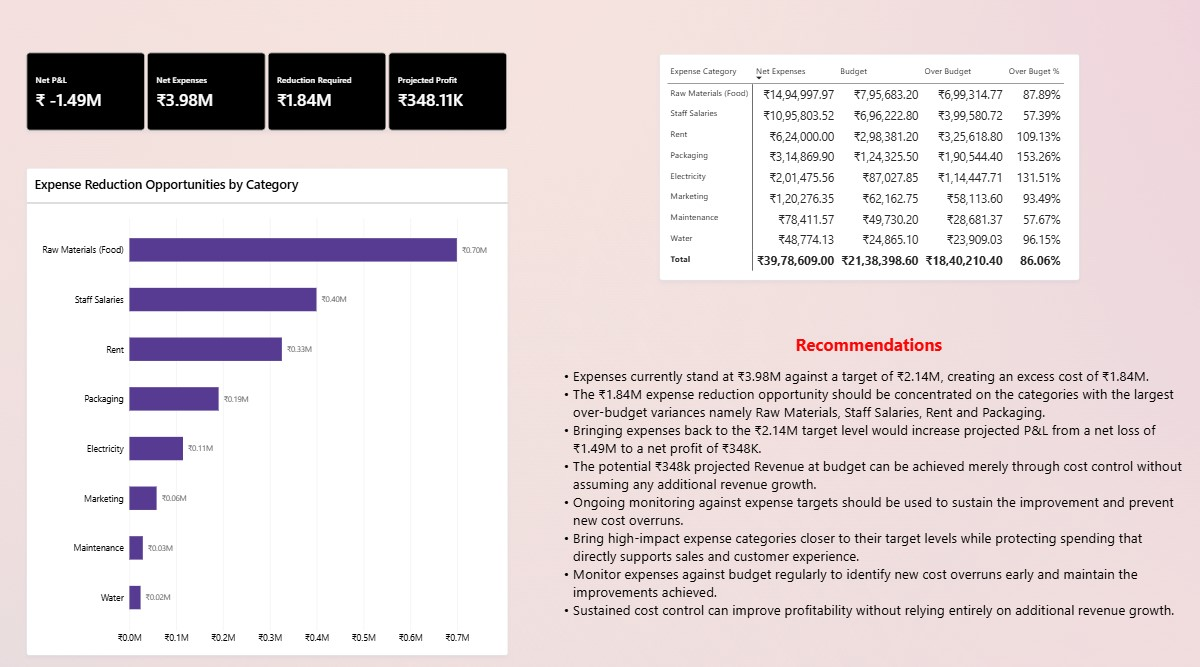

The page's visual inventory and layout, read from the dashboard file:
{"tool":"powerbi","page":{"name":"Expense Reduction Plan","canvas":[1920,1080],"ordinal":5},"visuals":[{"type":"cardVisual","fields":{"Data":["Key Measures Table.Net P&L","Key Measures Table.Net Expenses","Key Measures Table.Over Budget","Key Measures Table.Profit at Budget"]},"box":[45.3,93.1,765.9,124.1],"z":0},{"type":"clusteredBarChart","title":"Expense Reduction Opportunities by Category","fields":{"Category":["Cost Benchmarks.Expense Category"],"Y":["Key Measures Table.Over Budget"]},"box":[45.3,276.8,765.9,775.4],"z":1000},{"type":"pivotTable","fields":{"Rows":["Cost Benchmarks.Expense Category"],"Values":["Key Measures Table.Net Expenses","Key Measures Table.Budget","Key Measures Table.Over Budget","Key Measures Table.Over Buget %"]},"box":[1052.2,95.4,668.1,360.3],"z":2000},{"type":"textbox","box":[882.8,539.2,1004.5,513],"z":3000}]}

Visuals, with their boxes in screenshot pixels (x1, y1, x2, y2), scaled from the page's 1920x1080 canvas onto the 1200x667 screenshot:
cardVisual - Key Measures Table.Net P&L x Key Measures Table.Net Expenses: 28, 57, 507, 134
"Expense Reduction Opportunities by Category" clusteredBarChart: 28, 171, 507, 650
pivotTable - Cost Benchmarks.Expense Category x Key Measures Table.Net Expenses: 658, 59, 1075, 281
textbox: 552, 333, 1180, 650
